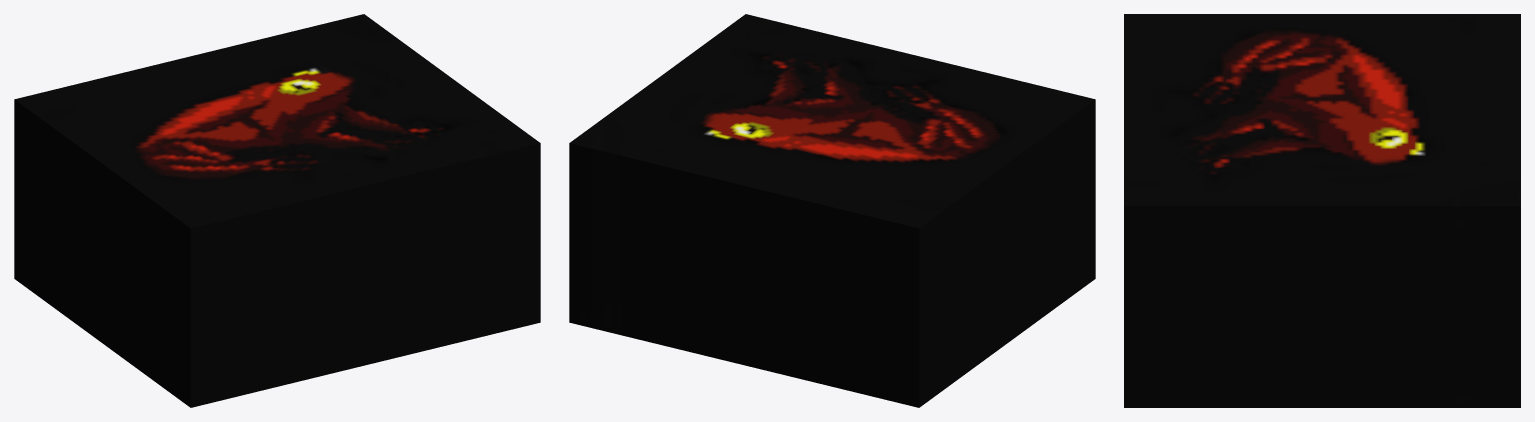
Rendered from frog.glb.
3 renders of one model, left to right at view 1: azimuth 30°, elevation 25°; view 2: azimuth 150°, elevation 25°; view 3: azimuth 270°, elevation 25°, orthographic. The views are drawn at different scales.
Visible parts, largest first — view 1: frog; view 2: frog; view 3: frog.
Boxes of the visible parts, x1,y1,x2,y2 form: frog: (14, 14, 540, 407); frog: (569, 14, 1095, 407); frog: (1124, 14, 1520, 407).
Bounding box in the file's own units: 1.14 × 0.5616 × 1.
1 material, 1 textured.
